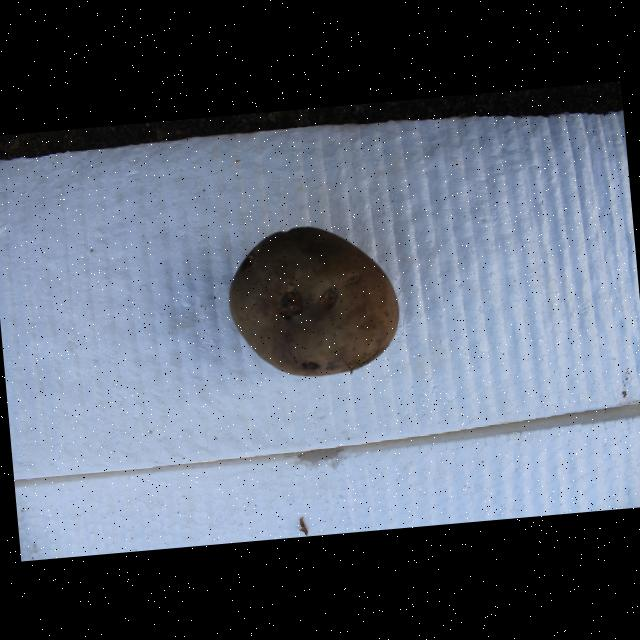Diseased-fungal potato: (216, 214, 406, 391)
